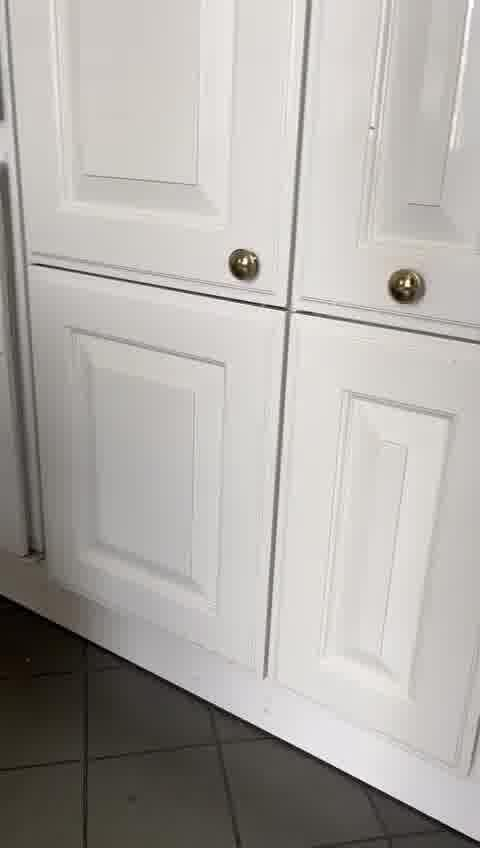cabinet_door: (31, 282, 282, 671), (273, 327, 480, 776), (19, 0, 299, 281), (297, 0, 480, 327)
handle: (385, 262, 427, 317), (226, 237, 262, 291)
